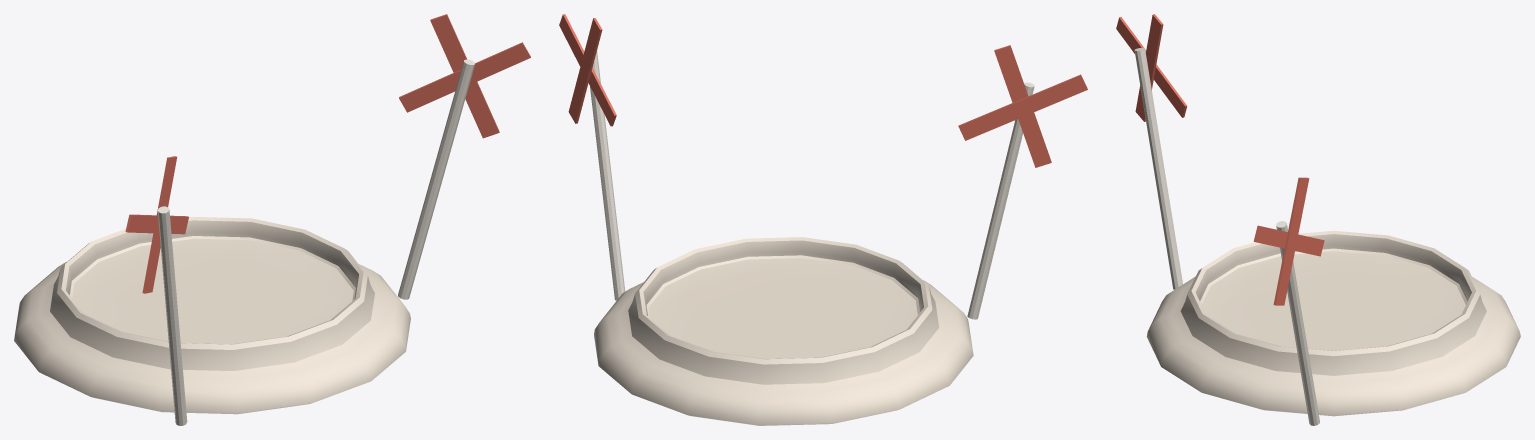
The model's file is trap_Platform002.fbx.
The picture shows the model from 3 angles, left to right: view 1: azimuth 30°, elevation 25°; view 2: azimuth 150°, elevation 25°; view 3: azimuth 270°, elevation 25°; orthographic projection. The views are drawn at different scales.
Parts seen in each view (by area): view 1: Danger.001; view 2: Danger.001; view 3: Danger.001.
Boxes of the visible parts, x1,y1,x2,y2 form: Danger.001: [14, 14, 530, 425]; Danger.001: [559, 14, 1087, 425]; Danger.001: [1116, 14, 1520, 425].
Size of the model in its own units: 314 by 176 by 246.
